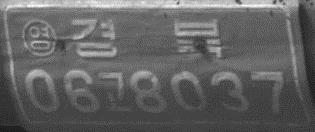0: (169, 69, 209, 116), (23, 67, 61, 116)
3: (210, 69, 249, 114)
6: (64, 68, 101, 114)
7: (248, 68, 286, 117)
8: (129, 69, 169, 116)
경북_D: (69, 16, 223, 60)
고: (96, 68, 132, 115)
영: (21, 17, 56, 59)
